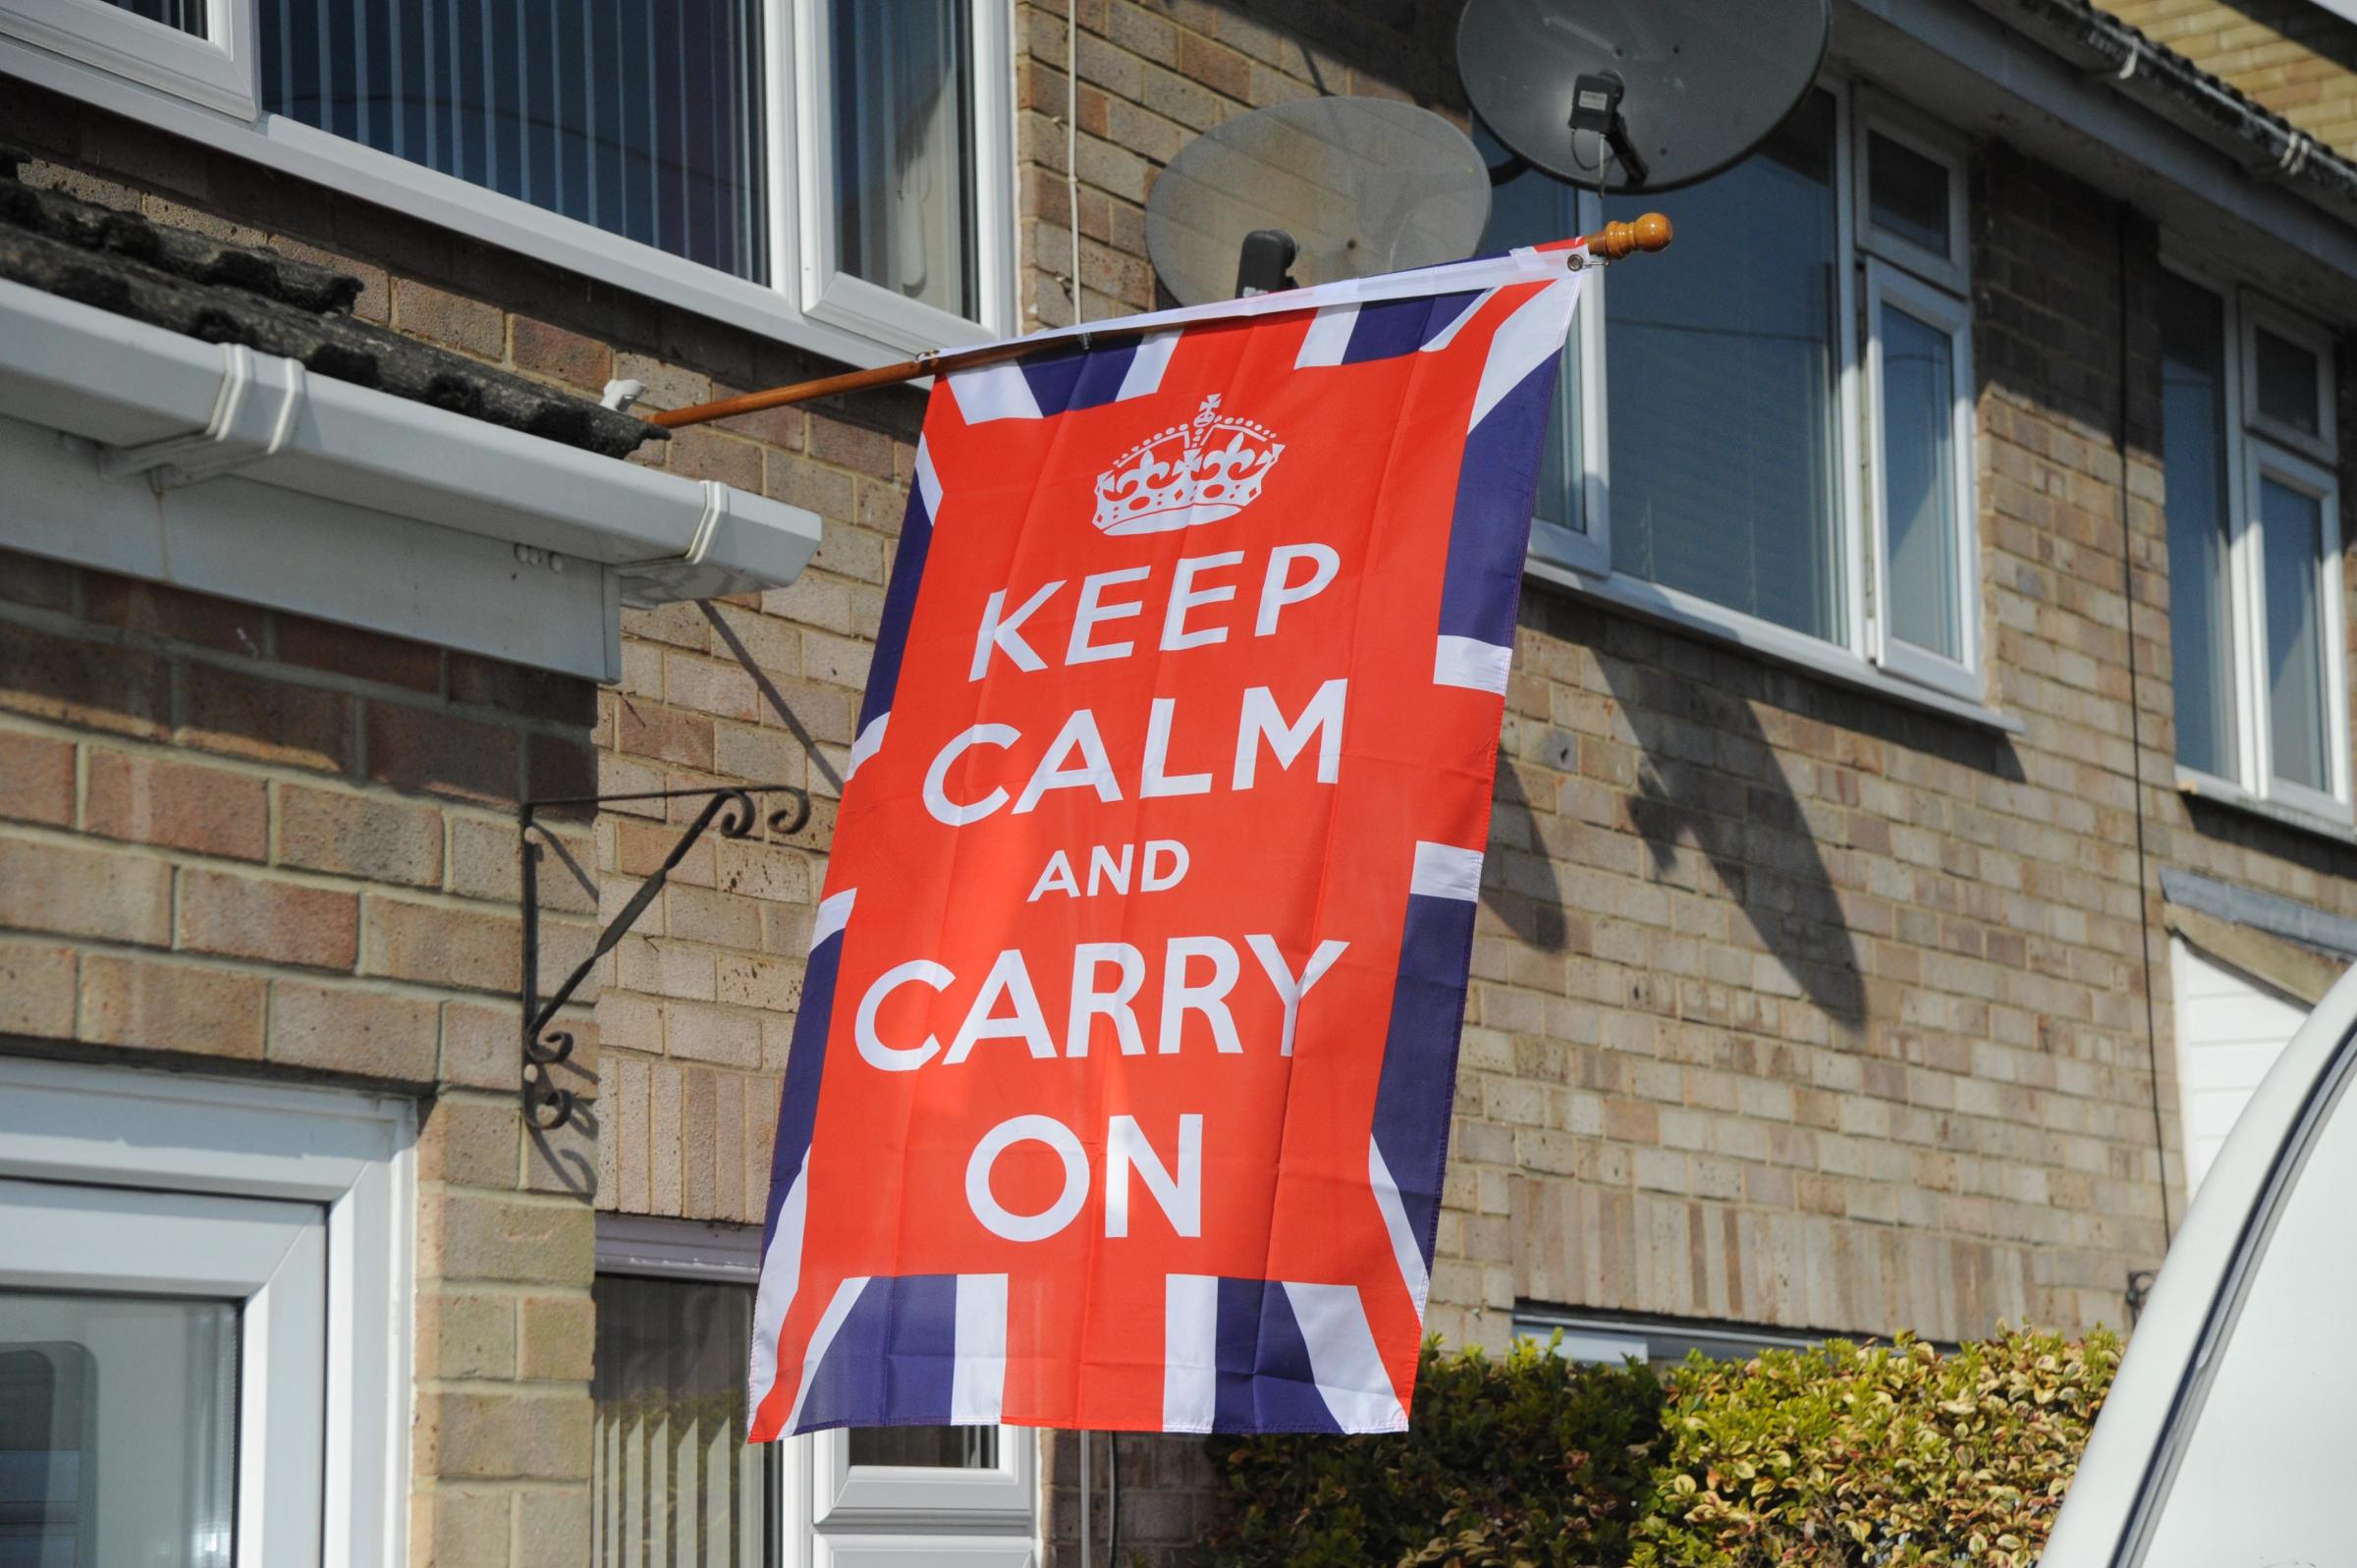Flag: (742, 236, 1647, 1445)
